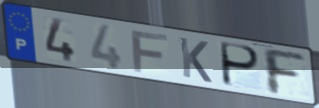4: (88, 22, 124, 72), (43, 16, 78, 63)
F: (259, 45, 309, 97), (129, 29, 170, 74)
K: (176, 35, 214, 85)
P: (220, 40, 263, 90)
